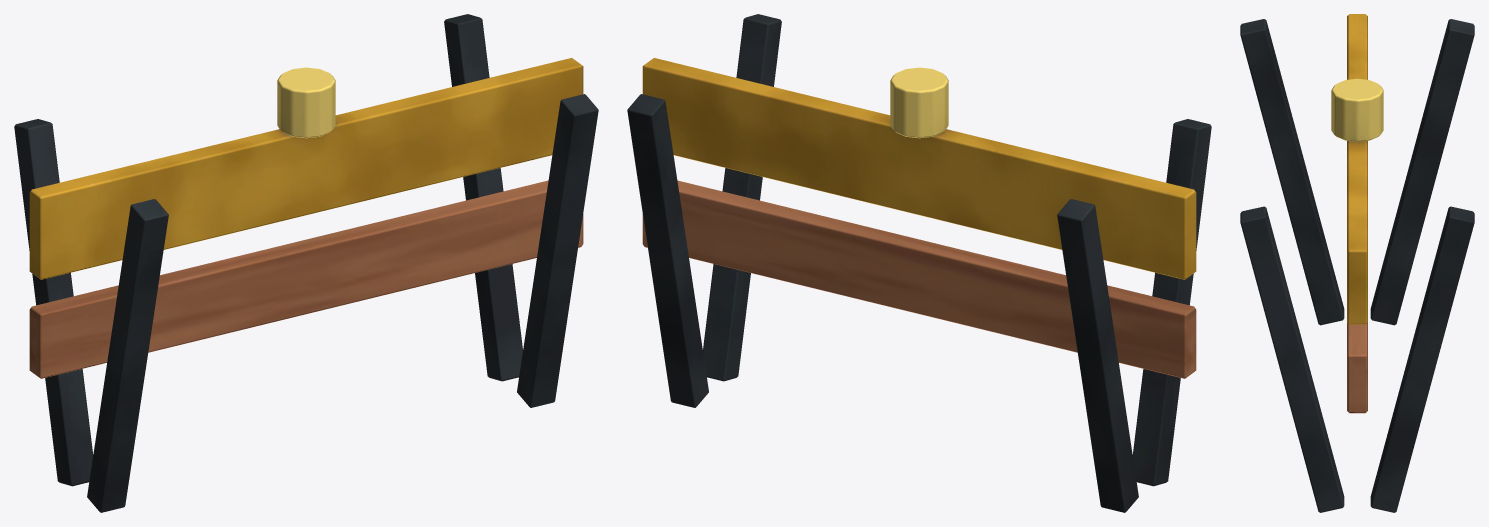
The model's file is road_barricade.glb.
3 renders of one model, left to right at view 1: azimuth 30°, elevation 25°; view 2: azimuth 150°, elevation 25°; view 3: azimuth 270°, elevation 25°, orthographic. The views are drawn at different scales.
Parts seen in each view (by area): view 1: RoadBarricade; view 2: RoadBarricade; view 3: RoadBarricade.
Boxes of the visible parts, left/top/right/bottom form: RoadBarricade: left=14, top=14, right=598, bottom=512; RoadBarricade: left=627, top=14, right=1211, bottom=512; RoadBarricade: left=1240, top=14, right=1474, bottom=512.
Bounding box in the file's own units: 1.9 × 1.21 × 0.7907.
Materials: 1 (1 with a texture image).
